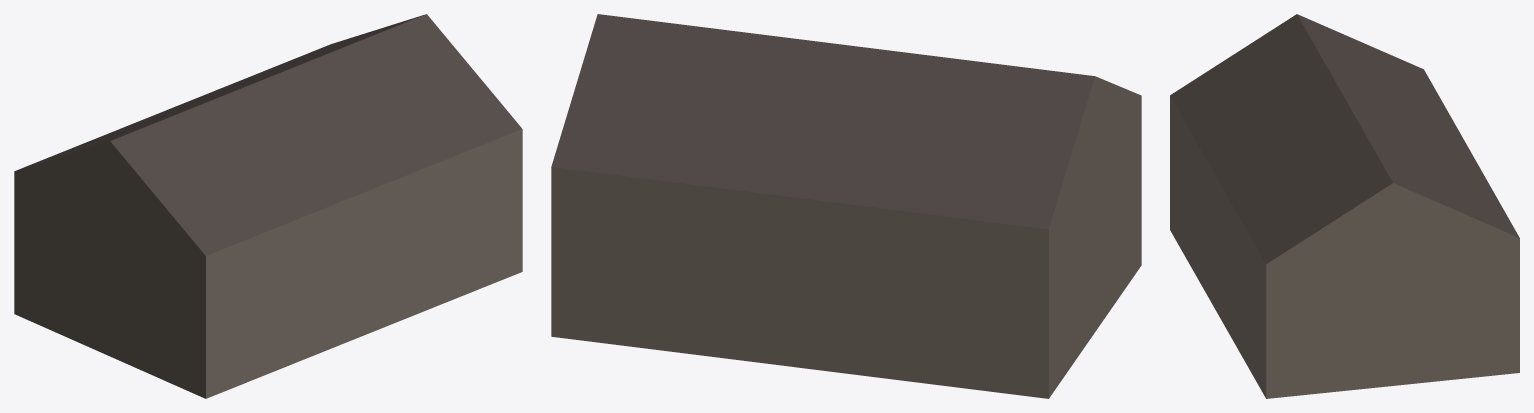
The picture shows the model from 3 angles, left to right: view 1: azimuth 30°, elevation 25°; view 2: azimuth 150°, elevation 25°; view 3: azimuth 270°, elevation 25°; orthographic projection. The views are drawn at different scales.
Parts seen in each view (by area): view 1: HP-w1200813403; view 2: HP-w1200813403; view 3: HP-w1200813403.
Boxes of the visible parts, x1,y1,x2,y2 form: HP-w1200813403: [14, 14, 522, 398]; HP-w1200813403: [551, 14, 1141, 398]; HP-w1200813403: [1170, 14, 1519, 398].
Bounding box in the file's own units: 27.98 × 13.57 × 21.21.
